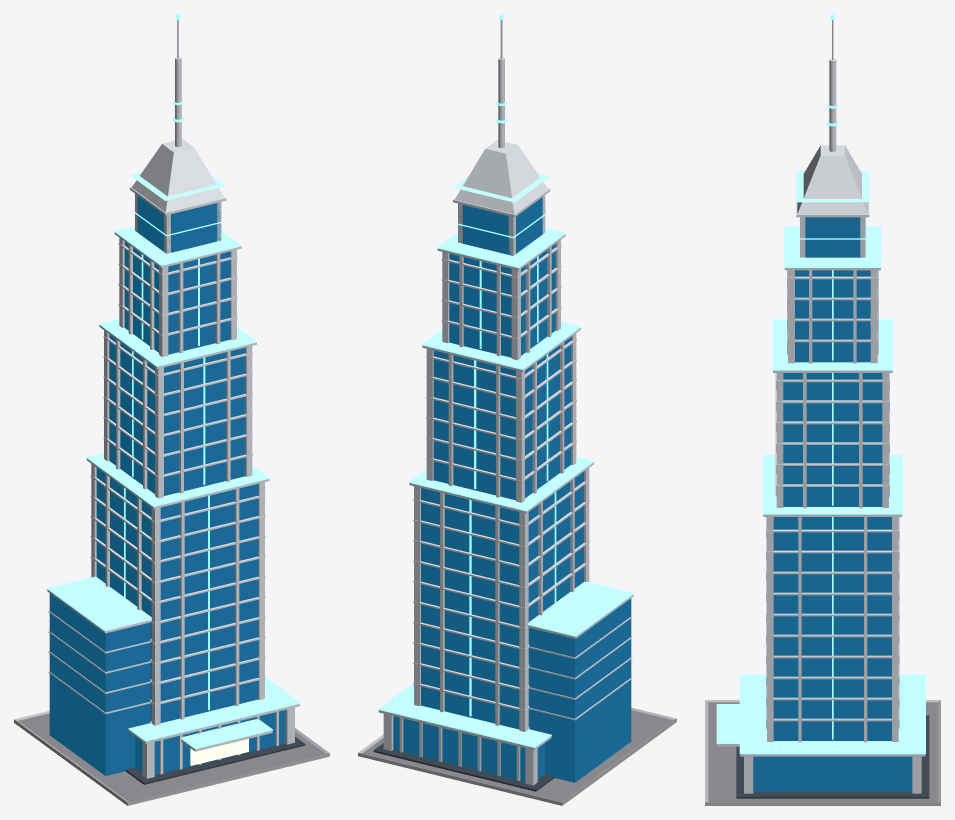
The model's file is skyScraper_model.glb.
The picture shows the model from 3 angles, left to right: view 1: azimuth 30°, elevation 25°; view 2: azimuth 150°, elevation 25°; view 3: azimuth 270°, elevation 25°; orthographic projection. The views are drawn at different scales.
Parts seen in each view (by area): view 1: Skyscraper_Shaft_A_Glass, Skyscraper_Wing_Glass, Skyscraper_Shaft_B_Glass, Skyscraper_Shaft_C_Glass, Base_Skyscraper_Tower, Skyscraper_Crown_Cap, Skyscraper_Crown_Glass, Skyscraper_Wing_Roof_Neon, Skyscraper_Podium_Roof_Neon, Skyscraper_Podium_Glass, Skyscraper_Shaft_A_Corner_04, Skyscraper_Shaft_A_Top_Neon (+24 smaller); view 2: Skyscraper_Shaft_A_Glass, Skyscraper_Wing_Glass, Skyscraper_Shaft_B_Glass, Skyscraper_Shaft_C_Glass, Base_Skyscraper_Tower, Skyscraper_Podium_Glass, Skyscraper_Crown_Cap, Skyscraper_Wing_Roof_Neon, Skyscraper_Crown_Glass, Skyscraper_Podium_Roof_Neon, Skyscraper_Shaft_A_Corner_03, Skyscraper_Shaft_A_Top_Neon (+23 smaller); view 3: Skyscraper_Shaft_A_Glass, Skyscraper_Shaft_B_Glass, Skyscraper_Podium_Roof_Neon, Skyscraper_Shaft_C_Glass, Skyscraper_Podium_Glass, Base_Skyscraper_Tower, Skyscraper_Crown_Cap, Skyscraper_Shaft_A_Top_Neon, Skyscraper_Shaft_B_Top_Neon, Skyscraper_Crown_Glass, Skyscraper_Podium_Base, Skyscraper_Shaft_C_Top_Neon (+26 smaller).
Part boxes in pixels (x1,y1,x2,y2): Skyscraper_Shaft_A_Glass: (96, 468, 258, 722); Skyscraper_Wing_Glass: (49, 593, 150, 775); Skyscraper_Shaft_B_Glass: (109, 334, 245, 495); Skyscraper_Shaft_C_Glass: (124, 242, 230, 354); Base_Skyscraper_Tower: (14, 711, 329, 805); Skyscraper_Crown_Cap: (131, 139, 224, 212); Skyscraper_Crown_Glass: (137, 196, 221, 252); Skyscraper_Wing_Roof_Neon: (46, 577, 151, 630); Skyscraper_Podium_Roof_Neon: (128, 677, 300, 741); Skyscraper_Podium_Glass: (135, 710, 285, 774); Skyscraper_Shaft_A_Corner_04: (151, 507, 160, 725); Skyscraper_Shaft_A_Top_Neon: (86, 453, 270, 506); Skyscraper_Shaft_A_Glass: (421, 472, 583, 729); Skyscraper_Wing_Glass: (529, 598, 631, 782); Skyscraper_Shaft_B_Glass: (433, 337, 571, 500); Skyscraper_Shaft_C_Glass: (449, 244, 555, 357); Base_Skyscraper_Tower: (358, 707, 676, 805); Skyscraper_Podium_Glass: (393, 716, 544, 781); Skyscraper_Crown_Cap: (454, 140, 548, 214); Skyscraper_Wing_Roof_Neon: (528, 581, 634, 636); Skyscraper_Crown_Glass: (458, 197, 542, 255); Skyscraper_Podium_Roof_Neon: (378, 683, 551, 747); Skyscraper_Shaft_A_Corner_03: (519, 512, 528, 731); Skyscraper_Shaft_A_Top_Neon: (409, 457, 594, 511); Skyscraper_Shaft_A_Glass: (773, 517, 891, 740); Skyscraper_Shaft_B_Glass: (783, 373, 882, 506); Skyscraper_Podium_Roof_Neon: (739, 674, 925, 754); Skyscraper_Shaft_C_Glass: (795, 270, 870, 362); Skyscraper_Podium_Glass: (753, 756, 912, 791); Base_Skyscraper_Tower: (705, 700, 940, 805); Skyscraper_Crown_Cap: (797, 145, 868, 214); Skyscraper_Shaft_A_Top_Neon: (763, 455, 902, 514); Skyscraper_Shaft_B_Top_Neon: (772, 319, 892, 370); Skyscraper_Crown_Glass: (805, 217, 862, 257); Skyscraper_Podium_Base: (736, 715, 929, 798); Skyscraper_Shaft_C_Top_Neon: (784, 226, 881, 267).
Size of the model in its own units: 62.81 by 213 by 61.1.
